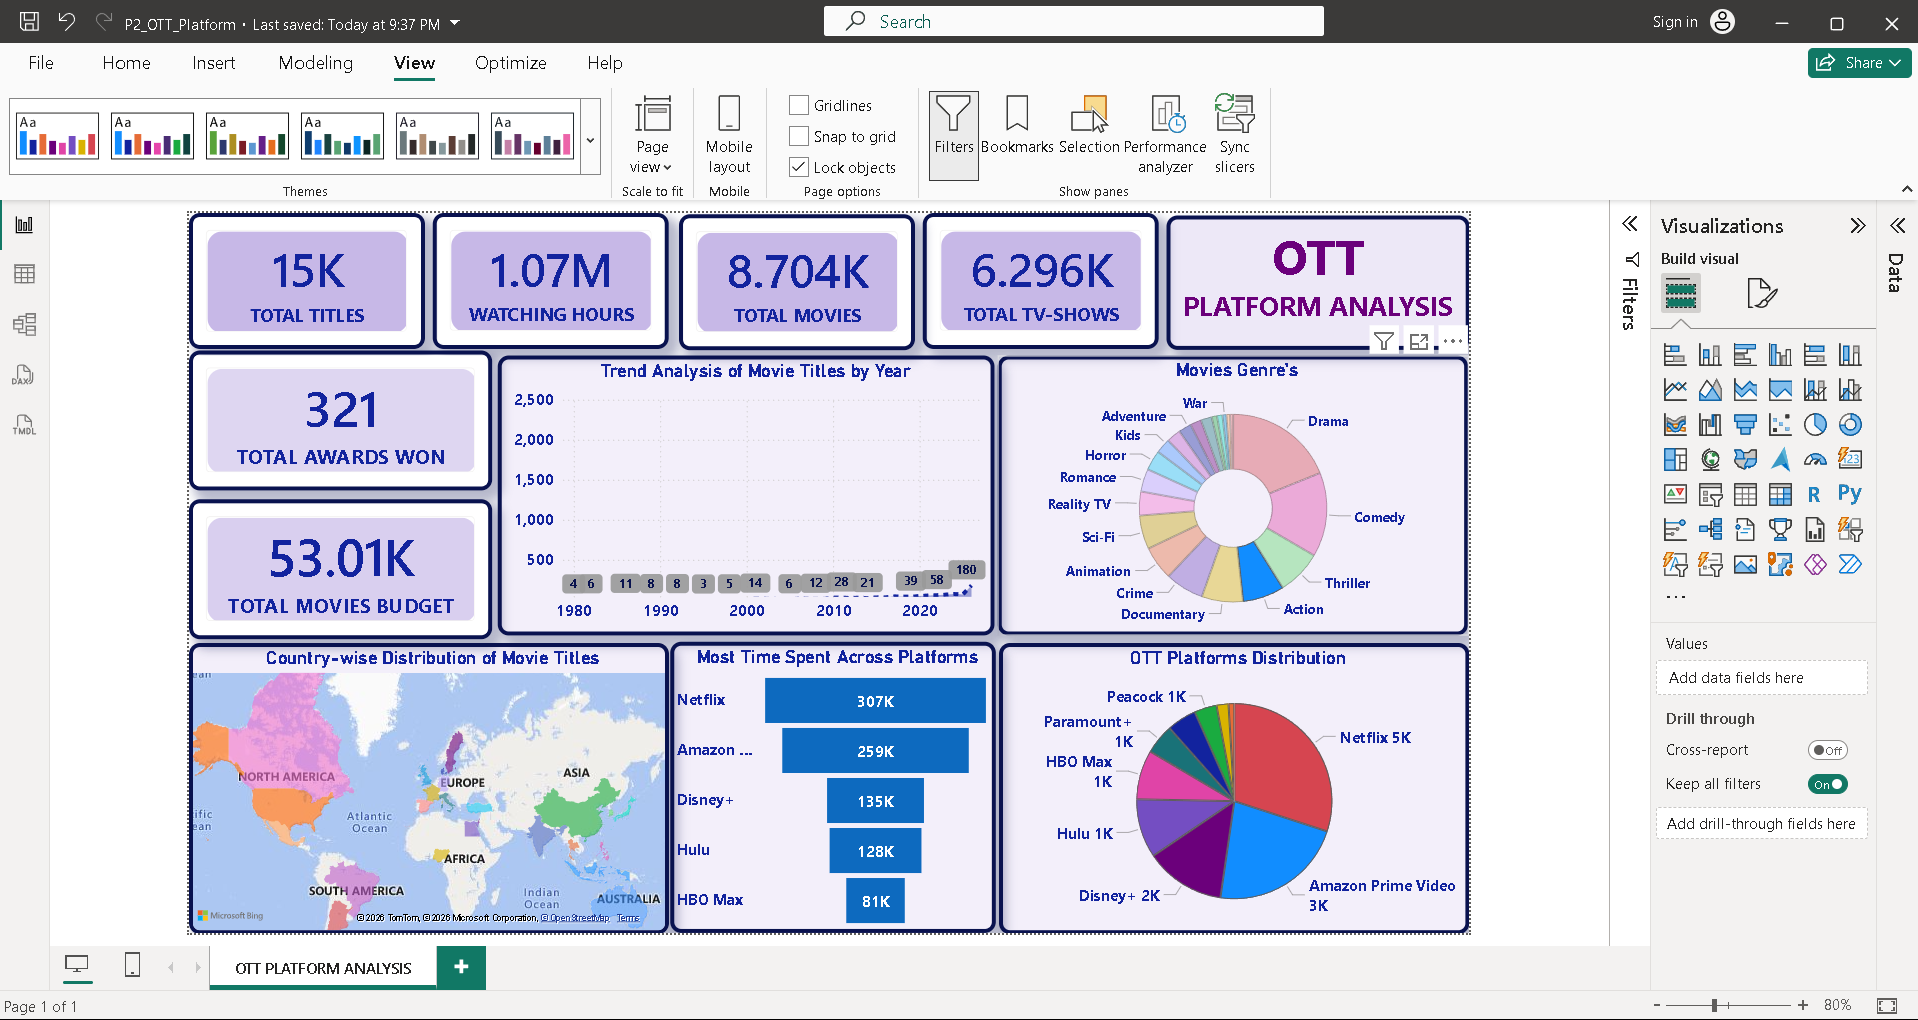

This screenshot's page, from the dashboard's own definition file:
{"tool":"powerbi","page":{"name":"OTT PLATFORM ANALYSIS","canvas":[1280,720],"ordinal":0},"visuals":[{"type":"cardVisual","fields":{"Data":["Sum(platform_summary.tv_shows)"]},"box":[734.1,0,236,135.8],"z":2},{"type":"textbox","box":[977.1,2.9,302.9,134.3],"z":3},{"type":"cardVisual","fields":{"Data":["Sum(platform_summary.total_titles)"]},"box":[0,0,235.8,136.1],"z":4},{"type":"cardVisual","fields":{"Data":["Sum(platform_summary.total_hours_watched_million)"]},"box":[244.3,0,236,135.8],"z":5},{"type":"cardVisual","fields":{"Data":["Sum(platform_summary.movies)"]},"box":[489.9,1.4,236,135.8],"z":6},{"type":"pieChart","title":"OTT Platforms Distribution","fields":{"Y":["Sum(platform_summary.total_titles)"],"Category":["platform_summary.platform"]},"box":[809.6,429.5,470.7,290.9],"z":7},{"type":"donutChart","title":"Movies Genre''s","fields":{"Category":["genre_summary.primary_genre"],"Y":["Sum(genre_summary.total_titles)"]},"box":[809.3,142.7,470.7,279.9],"z":8},{"type":"filledMap","title":"Country-wise Distribution of Movie Titles","fields":{"Series":["country_summary.total_titles"],"Category":["country_summary.country"]},"box":[0,429.5,480.3,290.9],"z":9},{"type":"lineChart","title":"Trend Analysis of Movie Titles by Year","fields":{"Category":["streaming_catalog.date_added.Variation.Date Hierarchy.Year"],"Y":["CountNonNull(streaming_catalog.title)"]},"box":[308.7,142.7,496.7,279.9],"z":10},{"type":"cardVisual","fields":{"Data":["Sum(genre_summary.total_awards)"]},"box":[0,137.2,303.3,140],"z":11},{"type":"cardVisual","fields":{"Data":["Sum(streaming_catalog.budget_million_usd)"]},"box":[0,286.8,303.3,140],"z":12},{"type":"funnel","title":"Most Time Spent Across Platforms","fields":{"Category":["platform_summary.platform"],"Y":["Sum(platform_summary.total_hours_watched_million)"]},"box":[481.6,429.1,325.2,290.9],"z":13}]}

Visuals, with their boxes on the page's 1280x720 design canvas (x1, y1, x2, y2). These are canvas units, not pixel positions in the 1918x1020 screenshot, which may show the page scaled, cropped or inside an application window:
cardVisual - Sum(platform_summary.tv_shows): box=[734, 0, 970, 136]
textbox: box=[977, 3, 1280, 137]
cardVisual - Sum(platform_summary.total_titles): box=[0, 0, 236, 136]
cardVisual - Sum(platform_summary.total_hours_watched_million): box=[244, 0, 480, 136]
cardVisual - Sum(platform_summary.movies): box=[490, 1, 726, 137]
"OTT Platforms Distribution" pieChart: box=[810, 430, 1280, 720]
"Movies Genre''s" donutChart: box=[809, 143, 1280, 423]
"Country-wise Distribution of Movie Titles" filledMap: box=[0, 430, 480, 720]
"Trend Analysis of Movie Titles by Year" lineChart: box=[309, 143, 805, 423]
cardVisual - Sum(genre_summary.total_awards): box=[0, 137, 303, 277]
cardVisual - Sum(streaming_catalog.budget_million_usd): box=[0, 287, 303, 427]
"Most Time Spent Across Platforms" funnel: box=[482, 429, 807, 720]
